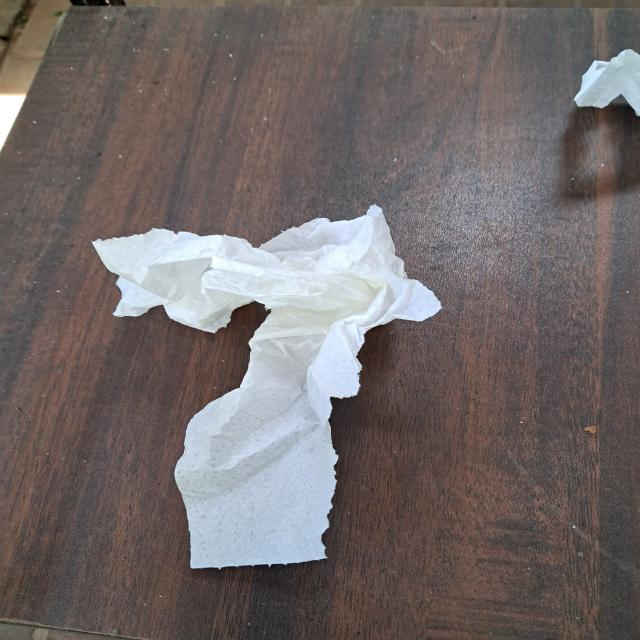Organik: (93, 196, 443, 575)
